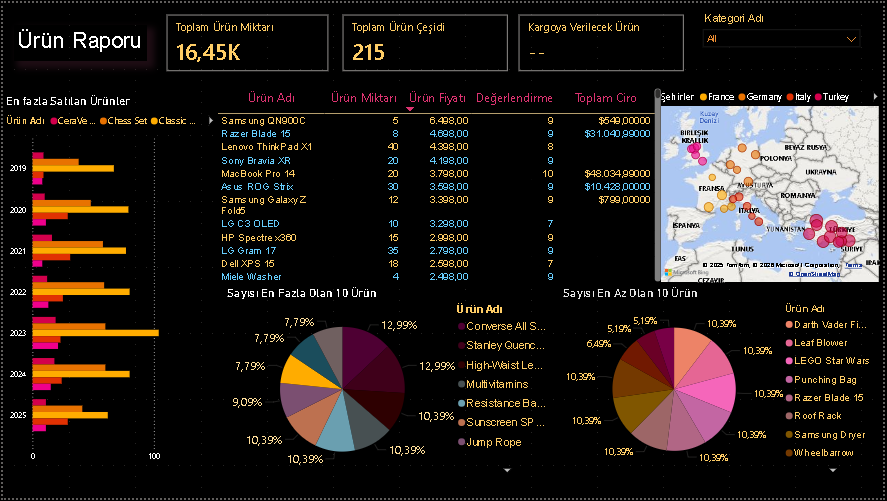

The page's visual inventory and layout, read from the dashboard file:
{"tool":"powerbi","page":{"name":"Ürünler","canvas":[1280,720],"ordinal":1},"visuals":[{"type":"cardVisual","fields":{"Data":["Measure Table.Toplam Ürün Miktarı"]},"box":[220.6,0,269.5,116.2],"z":0},{"type":"cardVisual","fields":{"Data":["Measure Table.Toplam Ürün Çeşidi"]},"box":[476.6,0,274.5,116.2],"z":1000},{"type":"slicer","fields":{"Values":["categories.category_name"]},"box":[1007.8,6.7,248.9,61.1],"z":2000},{"type":"tableEx","fields":{"Values":["products.product_name","Sum(product_stocks.quantity)","Sum(product_prices.price)","Sum(product_reviews.rating)","Measure Table.Toplam Ciro"]},"box":[306.5,119.6,655.2,291.4],"z":3000},{"type":"pieChart","title":"Sayısı En Fazla Olan 10  Ürün","fields":{"Y":["Sum(product_stocks.quantity)"],"Category":["products.product_name"]},"box":[321.7,410.9,488.4,281.3],"z":4000},{"type":"pieChart","title":"Sayısı En Az Olan 10  Ürün","fields":{"Y":["Sum(product_stocks.quantity)"],"Category":["products.product_name"]},"box":[810.1,410.9,469.9,281.3],"z":5000},{"type":"clusteredBarChart","title":"En fazla Satılan Ürünler","fields":{"Category":["DimDate.Date.Variation.Date Hierarchy.Year","DimDate.Date.Variation.Date Hierarchy.Quarter","DimDate.Date.Variation.Date Hierarchy.Month","DimDate.Date.Variation.Date Hierarchy.Day"],"Y":["Measure Table.Toplam Satılan Ürün"],"Series":["products.product_name"]},"box":[0,133.1,321.7,544],"z":6000},{"type":"textbox","box":[15.7,31.4,194.3,52.9],"z":7000},{"type":"map","fields":{"Size":["Measure Table.Toplam Satılan Ürün"],"Category":["cities.city_name"],"Series":["countries.country_name"]},"box":[953.3,116.2,326.7,294.7],"z":8000},{"type":"cardVisual","fields":{"Data":["Measure Table.GÖNDERİLECEK ÜRÜN SAYISI"]},"box":[733.3,0,274.4,116.7],"z":9000}]}

Visuals, with their boxes in screenshot pixels (x1, y1, x2, y2), scaled from the page's 1280x720 canvas onto the 887x501 screenshot:
cardVisual - Measure Table.Toplam Ürün Miktarı: locate(153, 0, 340, 81)
cardVisual - Measure Table.Toplam Ürün Çeşidi: locate(330, 0, 520, 81)
slicer - categories.category_name: locate(698, 5, 871, 47)
tableEx - products.product_name x Sum(product_stocks.quantity): locate(212, 83, 666, 286)
"Sayısı En Fazla Olan 10  Ürün" pieChart: locate(223, 286, 561, 482)
"Sayısı En Az Olan 10  Ürün" pieChart: locate(561, 286, 886, 482)
"En fazla Satılan Ürünler" clusteredBarChart: locate(0, 93, 223, 471)
textbox: locate(11, 22, 146, 59)
map - Measure Table.Toplam Satılan Ürün x cities.city_name: locate(661, 81, 886, 286)
cardVisual - Measure Table.GÖNDERİLECEK ÜRÜN SAYISI: locate(508, 0, 698, 81)
